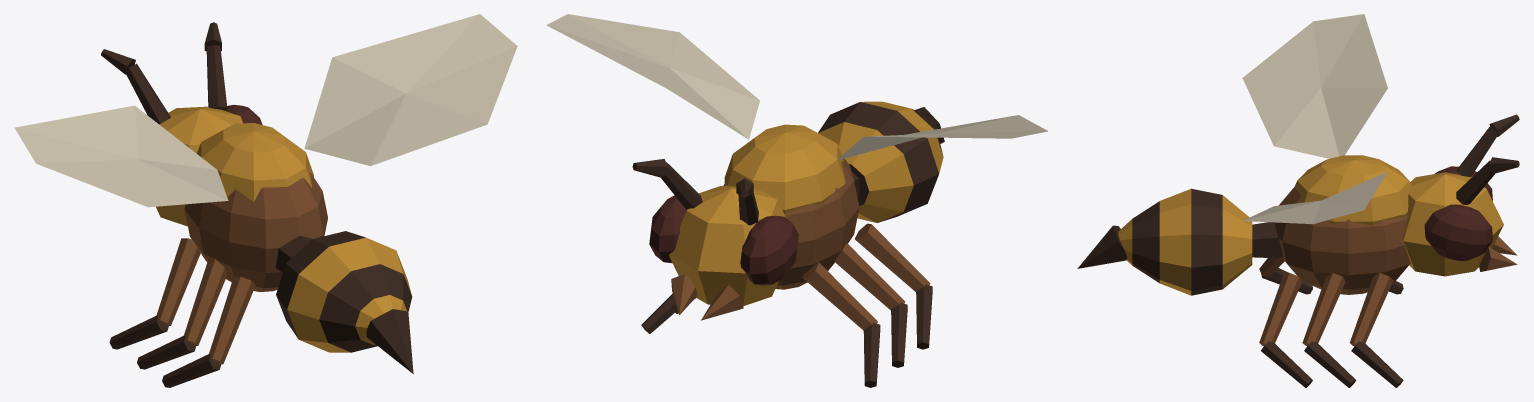
File: wasp_enemy_visual.glb
3 views of the same model, side by side, from view 1: azimuth 30°, elevation 25°; view 2: azimuth 150°, elevation 25°; view 3: azimuth 270°, elevation 25° (orthographic). The views are drawn at different scales.
Visible parts, largest first — view 1: Wing_R, Wing_L, Abdomen, Thorax, ThoraxPlate, Head, Stinger, Leg_L_2_Upper, Leg_L_0_Upper, Leg_L_1_Upper, AntennaBase_L, AntennaBase_R (+5 smaller); view 2: Wing_R, Abdomen, Head, ThoraxPlate, Thorax, Eye_L, Wing_L, Leg_L_2_Upper, Leg_L_0_Upper, Eye_R, Leg_L_1_Upper, Leg_L_1_Lower (+8 smaller); view 3: Wing_L, Abdomen, Thorax, Head, ThoraxPlate, Eye_R, Wing_R, Leg_R_2_Upper, Leg_R_0_Upper, Leg_R_1_Upper, Stinger, Waist (+6 smaller).
Boxes of the visible parts, x1,y1,x2,y2 form: Wing_R: (304, 14, 517, 166); Wing_L: (14, 105, 228, 207); Abdomen: (276, 231, 412, 352); Thorax: (184, 172, 327, 291); ThoraxPlate: (197, 123, 313, 201); Head: (156, 106, 242, 226); Stinger: (366, 309, 413, 373); Leg_L_2_Upper: (208, 276, 255, 364); Leg_L_0_Upper: (156, 238, 200, 325); Leg_L_1_Upper: (183, 258, 227, 345); AntennaBase_L: (126, 63, 170, 124); AntennaBase_R: (206, 45, 227, 110); Wing_R: (546, 14, 759, 139); Abdomen: (818, 101, 943, 222); Head: (669, 186, 785, 306); ThoraxPlate: (724, 124, 845, 213); Thorax: (723, 158, 859, 289); Eye_L: (740, 215, 798, 285); Wing_L: (836, 115, 1047, 160); Leg_L_2_Upper: (855, 223, 930, 291); Leg_L_0_Upper: (802, 262, 877, 330); Eye_R: (649, 195, 686, 263); Leg_L_1_Upper: (835, 243, 905, 310); Leg_L_1_Lower: (891, 302, 907, 367); Wing_L: (1242, 14, 1387, 158); Abdomen: (1118, 188, 1252, 295); Thorax: (1274, 187, 1410, 294); Head: (1402, 172, 1503, 276); ThoraxPlate: (1294, 155, 1411, 225); Eye_R: (1424, 204, 1492, 260); Wing_R: (1243, 172, 1387, 224); Leg_R_2_Upper: (1259, 272, 1302, 346); Leg_R_0_Upper: (1349, 272, 1393, 346); Leg_R_1_Upper: (1302, 273, 1345, 345); Stinger: (1077, 225, 1127, 268); Waist: (1252, 222, 1283, 258).
Size of the model in its own units: 1.22 by 0.6427 by 1.13.
